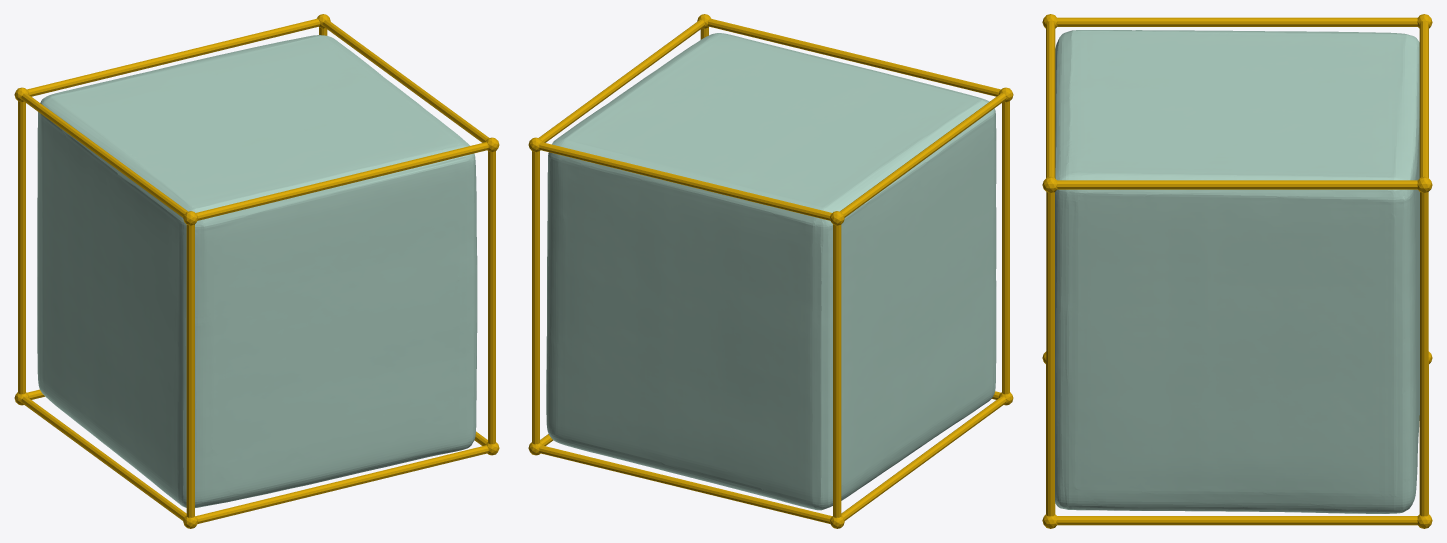
The model's file is sam3d_with_obb_viewer.glb.
3 renders of one model, left to right at view 1: azimuth 30°, elevation 25°; view 2: azimuth 150°, elevation 25°; view 3: azimuth 270°, elevation 25°, orthographic. The views are drawn at different scales.
Parts seen in each view (by area): view 1: world; view 2: world; view 3: world.
Boxes of the visible parts, bbox=[...] form: world: bbox=[14, 14, 499, 528]; world: bbox=[528, 14, 1013, 528]; world: bbox=[1042, 14, 1432, 528].
Bounding box in the file's own units: 0.031 × 0.0298 × 0.0301.
